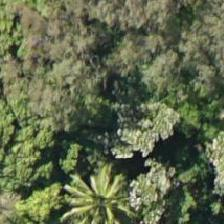coconut_tree: (53, 154, 143, 223)
